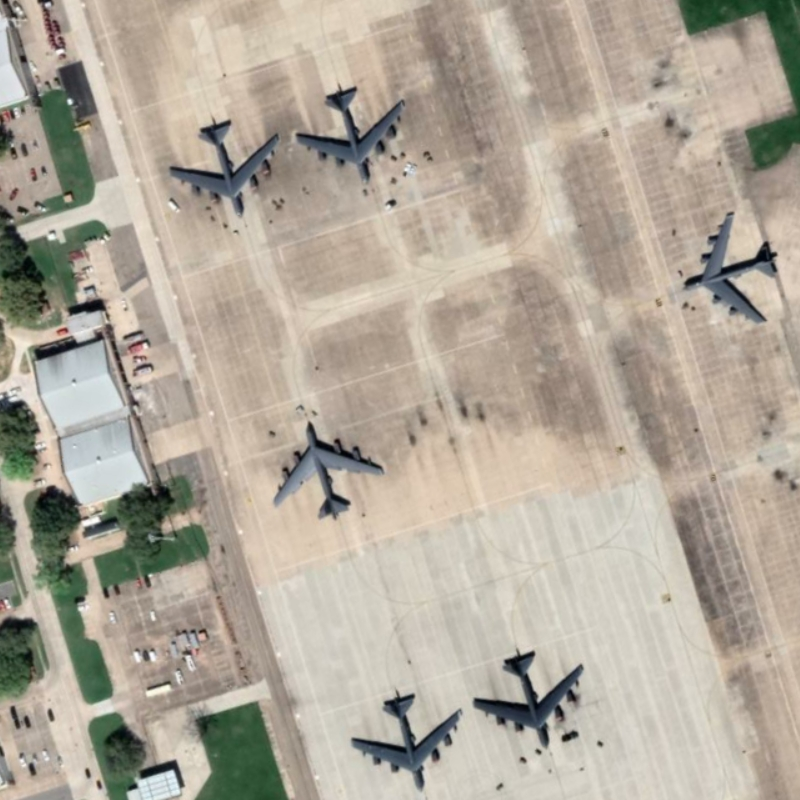A8: (160, 105, 286, 223), (470, 639, 590, 762), (675, 205, 782, 338), (343, 686, 471, 795), (289, 79, 410, 192), (265, 416, 389, 525)
